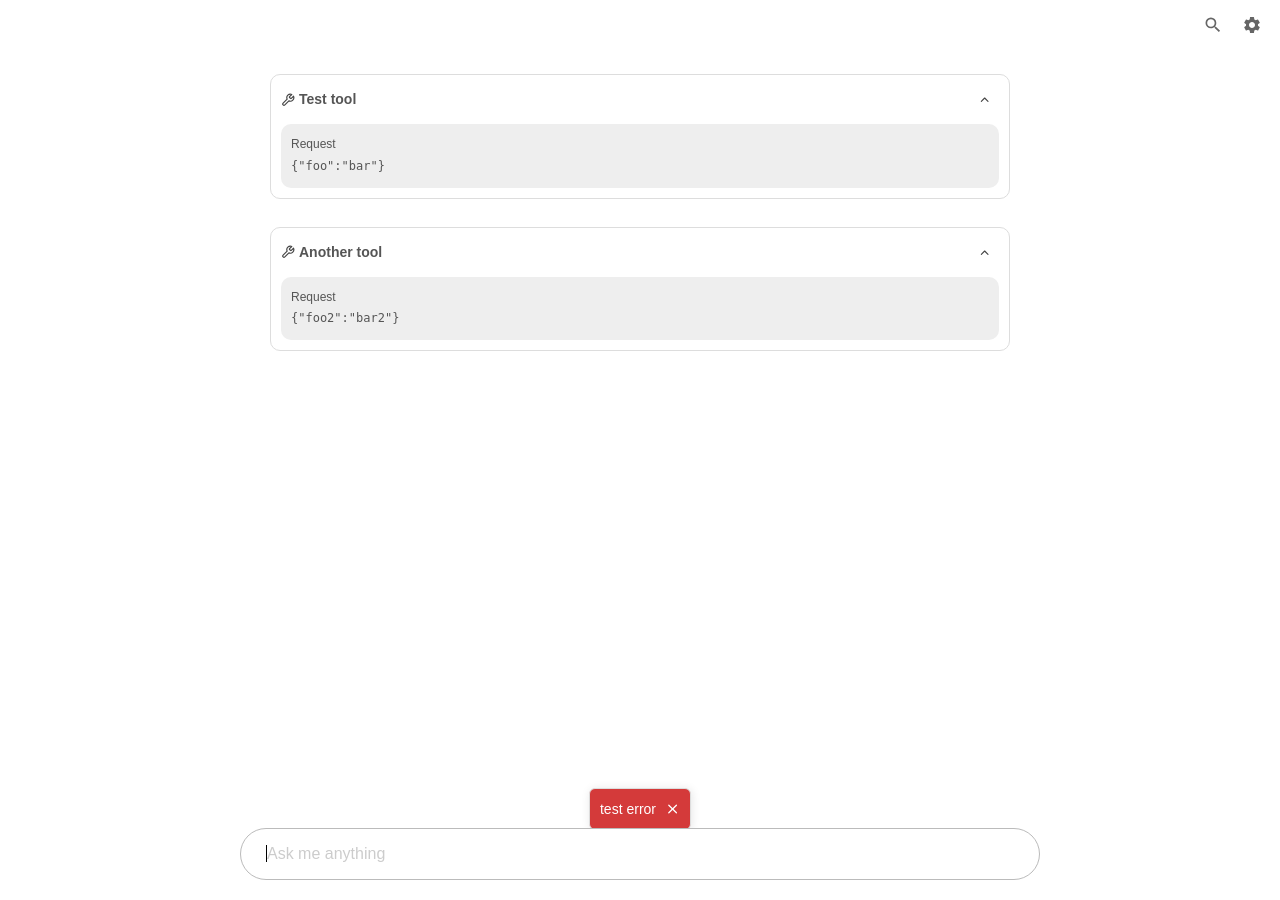
Test: Chat › ツールを閉じられること
Expected: the text "{\"foo\":\"bar\"}" is shown, [291, 159, 385, 173]
Click the button named "close-tool-0": (984, 100) [970, 85, 999, 114]
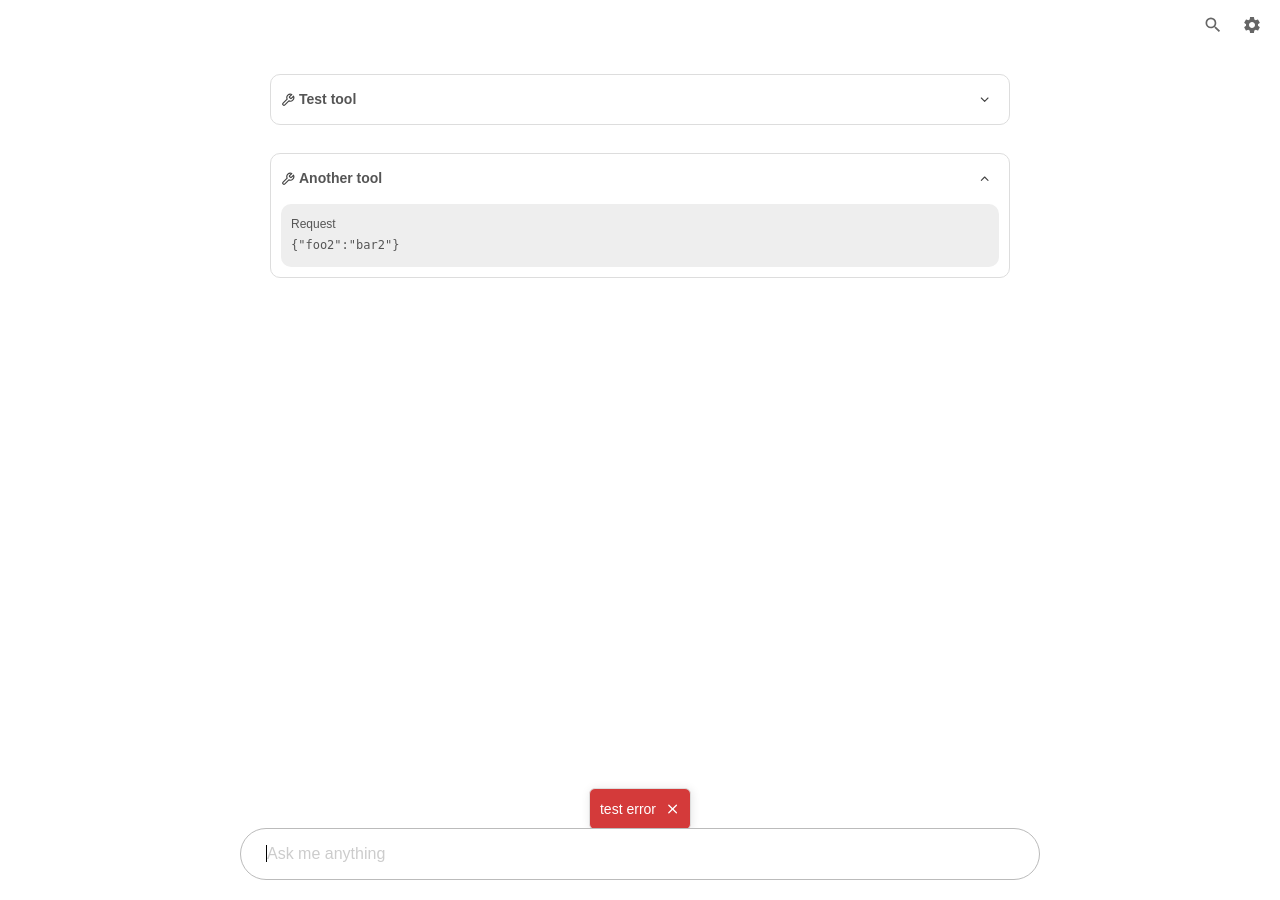
Now the text "{\"foo\":\"bar\"}" is gone
